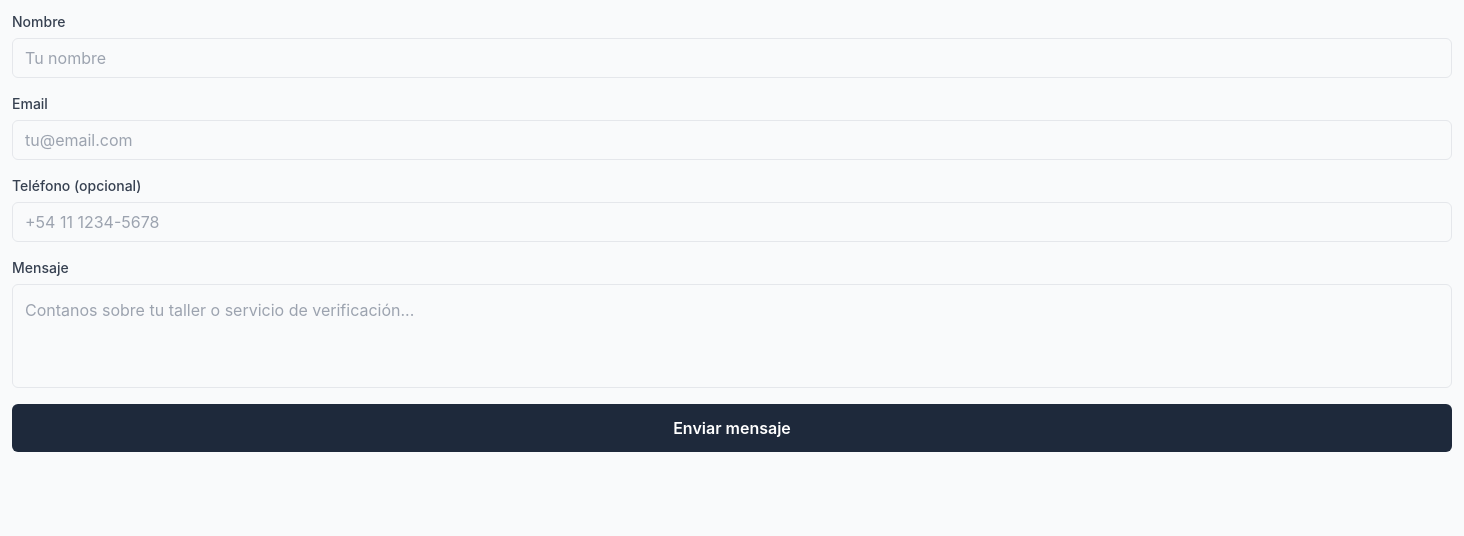
Test case: ContactForm › shows validation errors for all empty required fields
The image size is (1464, 536).
Step 1. Click the button "Enviar mensaje" → (732, 428), box [12, 404, 1452, 452]
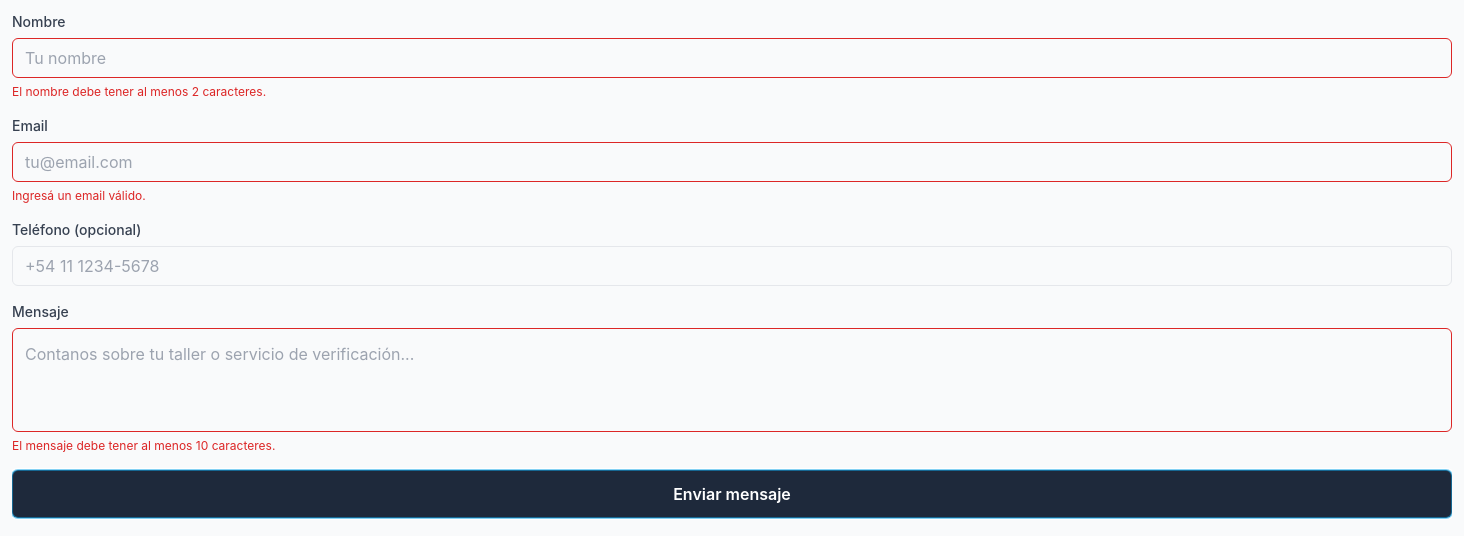
Result: the text "El nombre debe tener al menos 2 caracteres." is shown at [12, 84, 266, 99]
Result: the text "Ingresá un email válido." is shown at [12, 188, 146, 203]
Result: the text "El mensaje debe tener al menos 10 caracteres." is shown at [12, 438, 275, 453]
